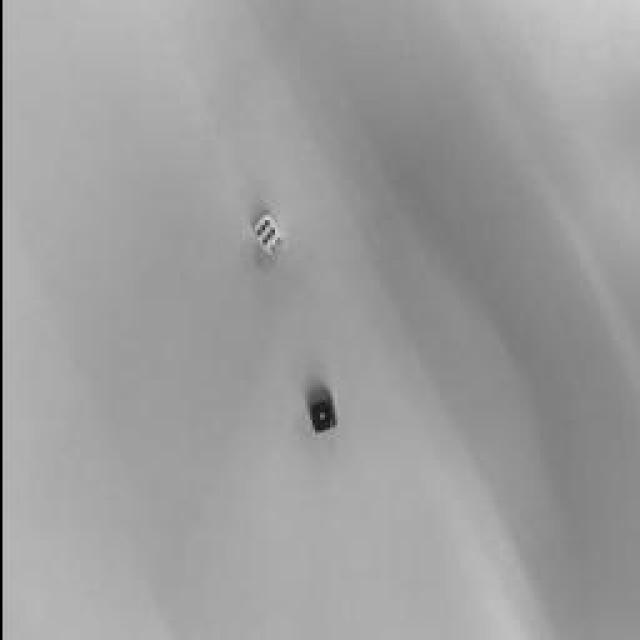dice_1: (308, 402, 332, 432)
dice_6: (250, 212, 275, 252)
